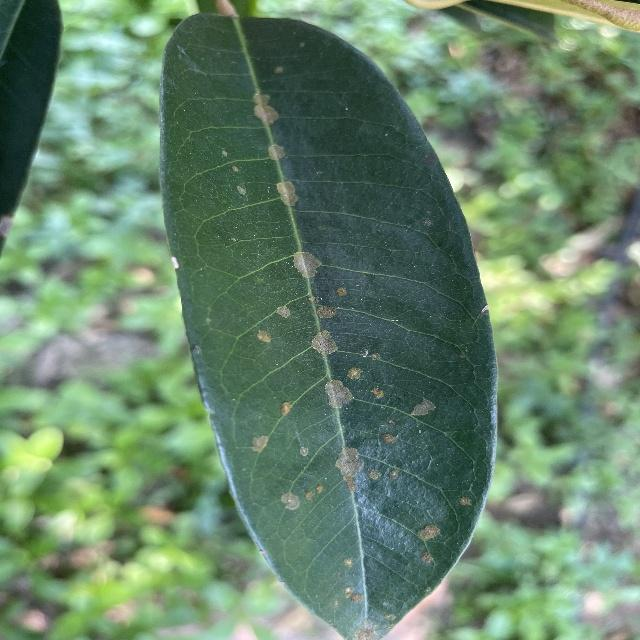Algal Leaf Spot: (155, 0, 507, 640)
